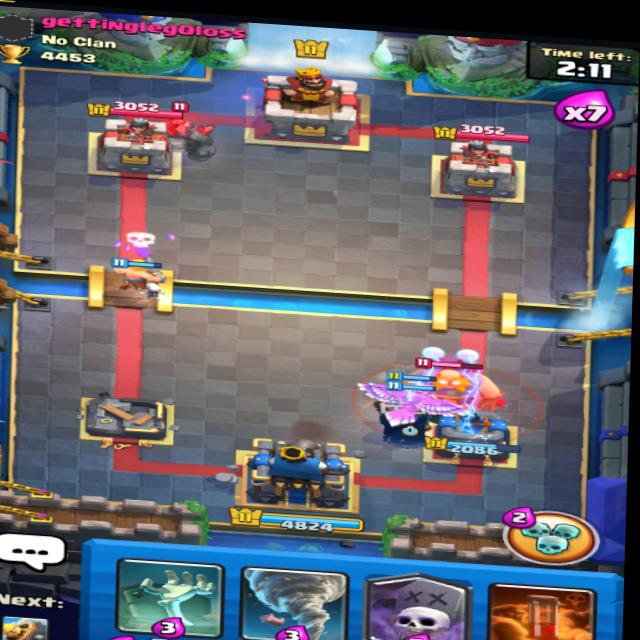electro-giant: (381, 343, 513, 425)
golem: (125, 95, 237, 169)
